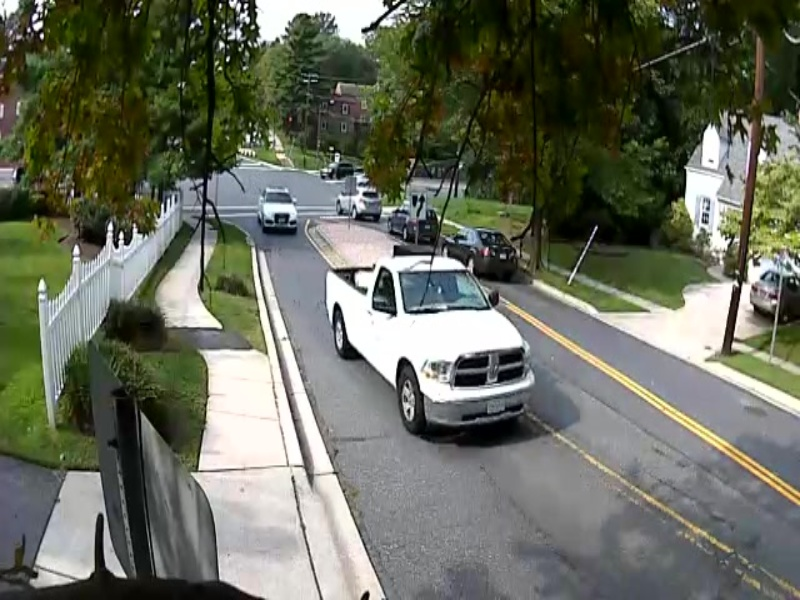car: (296, 245, 552, 472), (245, 169, 313, 241)
